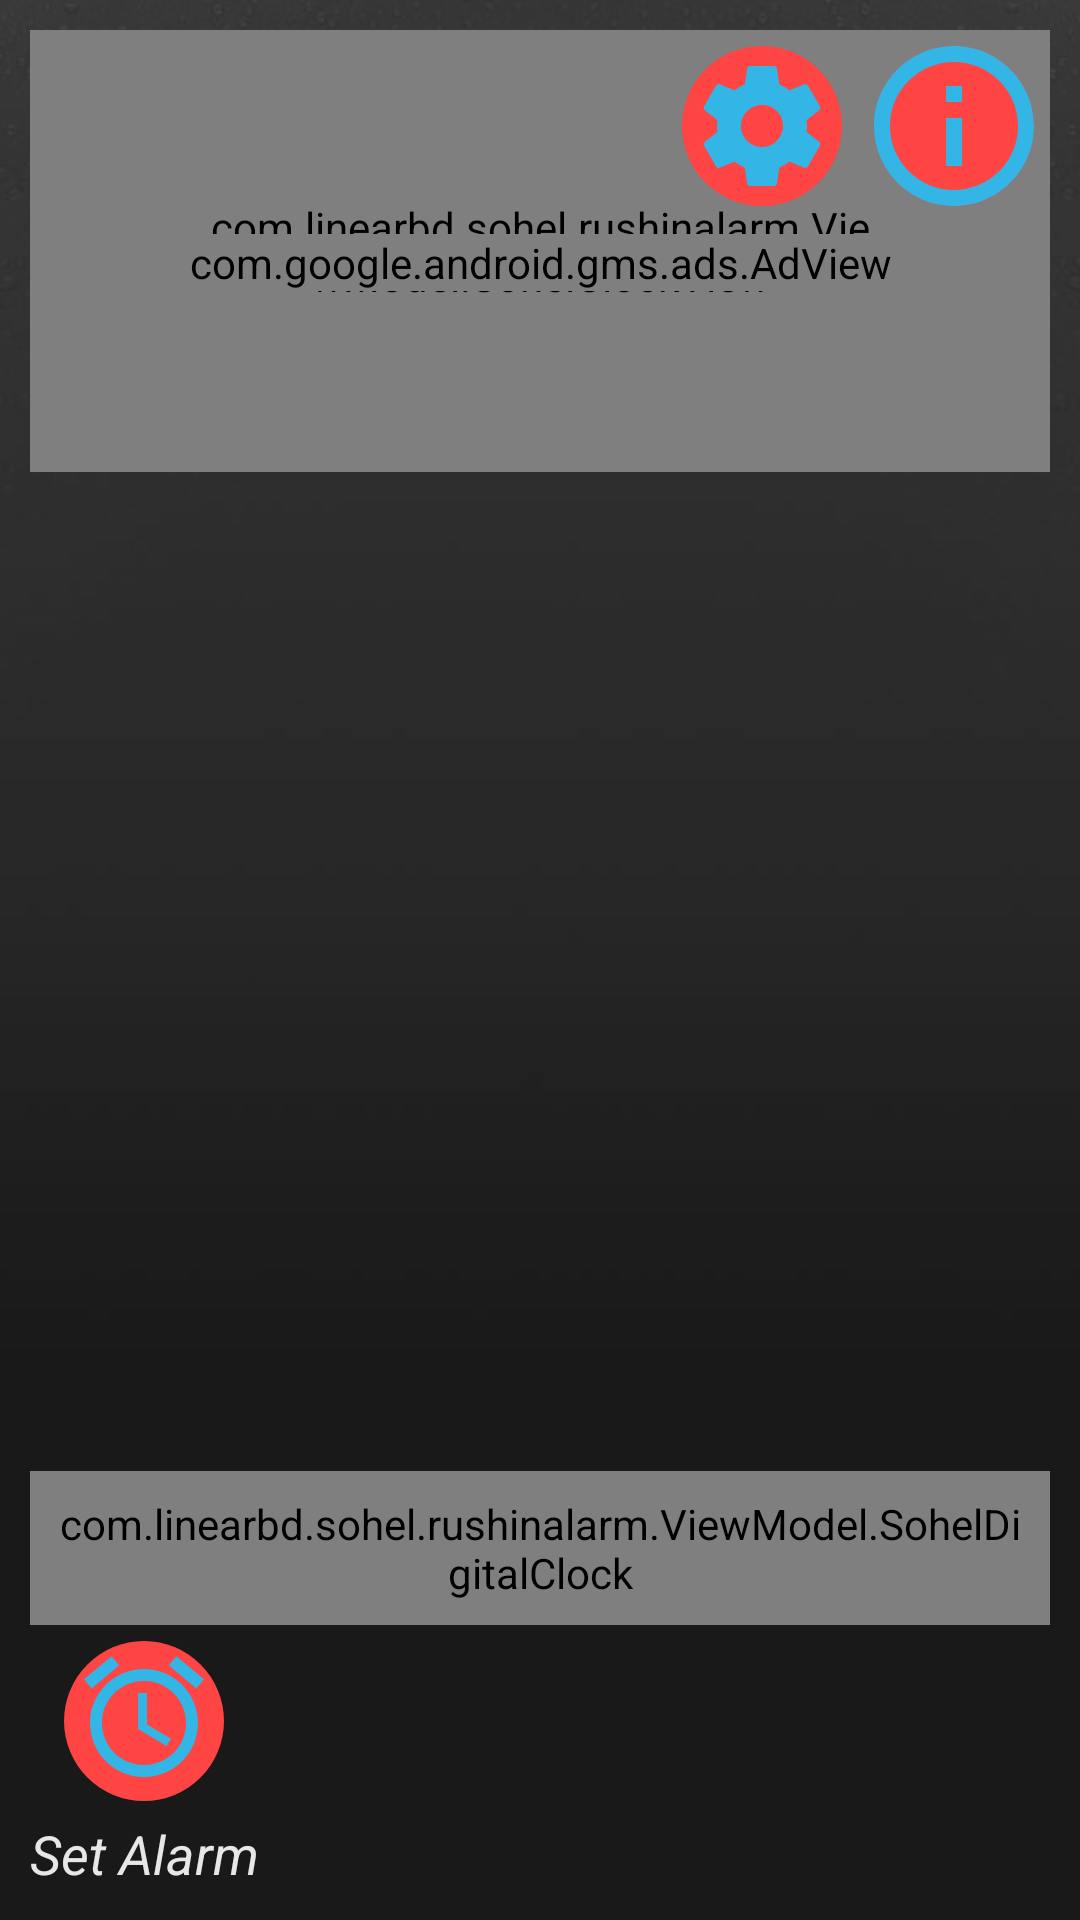

Icons on this 1080w x 1920h Android screen, each with its box as bbox=(x1, y1, x2, y2):
info: bbox=(874, 46, 1034, 206)
settings: bbox=(666, 46, 846, 217)
